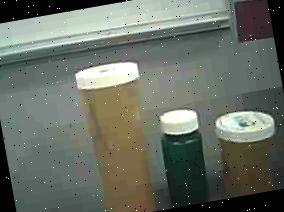Bottle A: (68, 54, 163, 212)
Bottle B: (209, 102, 284, 199)
Bottle C: (154, 104, 216, 209)
